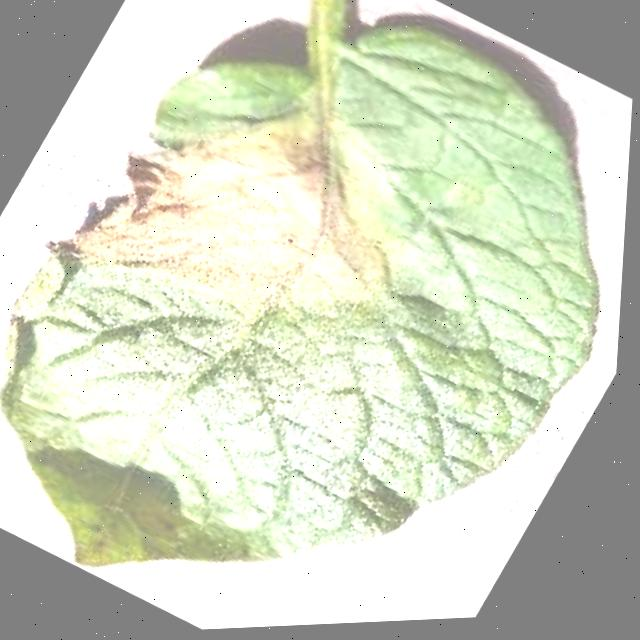Late_blight: (24, 23, 482, 426)
